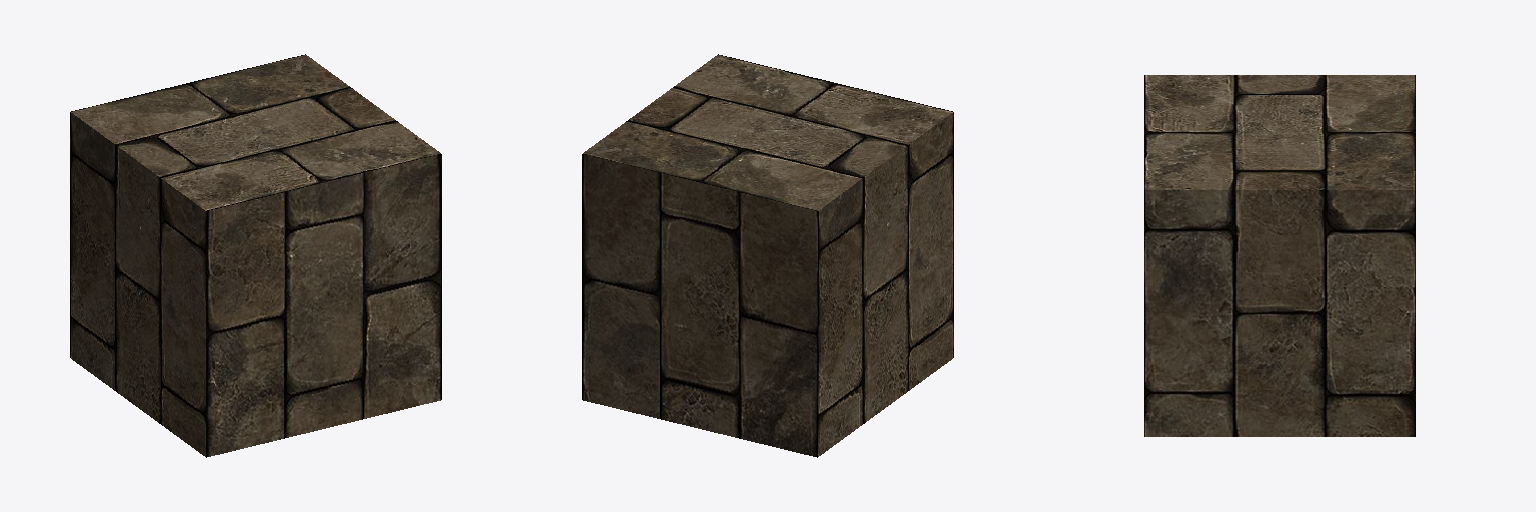
3 views of the same model, side by side, from view 1: azimuth 30°, elevation 25°; view 2: azimuth 150°, elevation 25°; view 3: azimuth 270°, elevation 25° (orthographic).
Visible parts, largest first — view 1: Cube; view 2: Cube; view 3: Cube.
Part boxes in pixels (left/top/right/bottom): Cube: left=70, top=54, right=441, bottom=457; Cube: left=582, top=54, right=953, bottom=457; Cube: left=1144, top=75, right=1415, bottom=436.
Bounding box in the file's own units: 2 × 2 × 2.
1 materials, 1 textured.